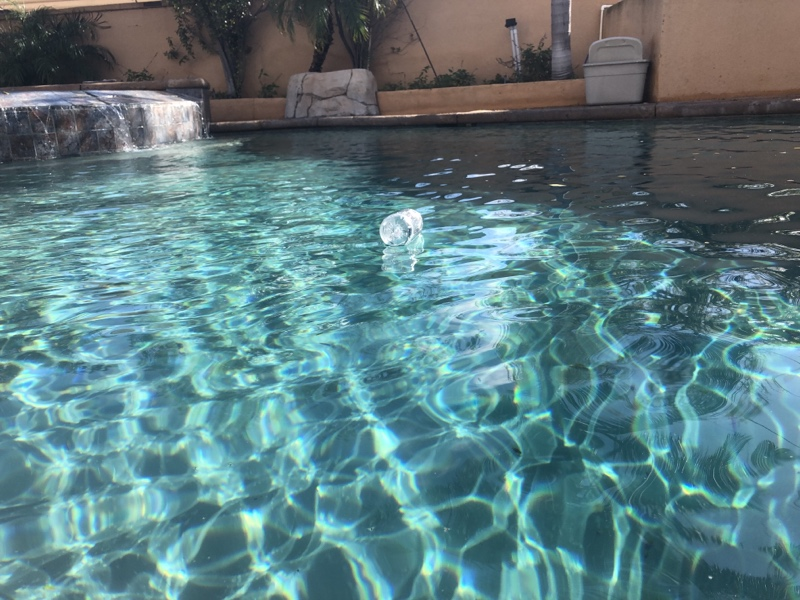Plastic Bottle: (378, 202, 425, 248)
